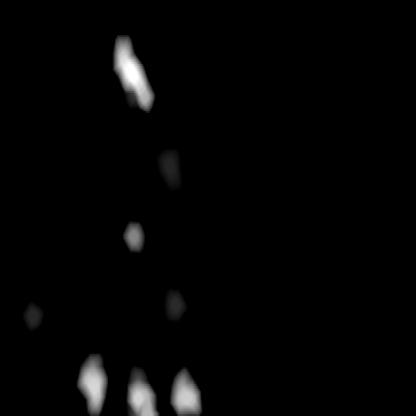fingers: (114, 34, 153, 113)
palm: (23, 303, 205, 414)
